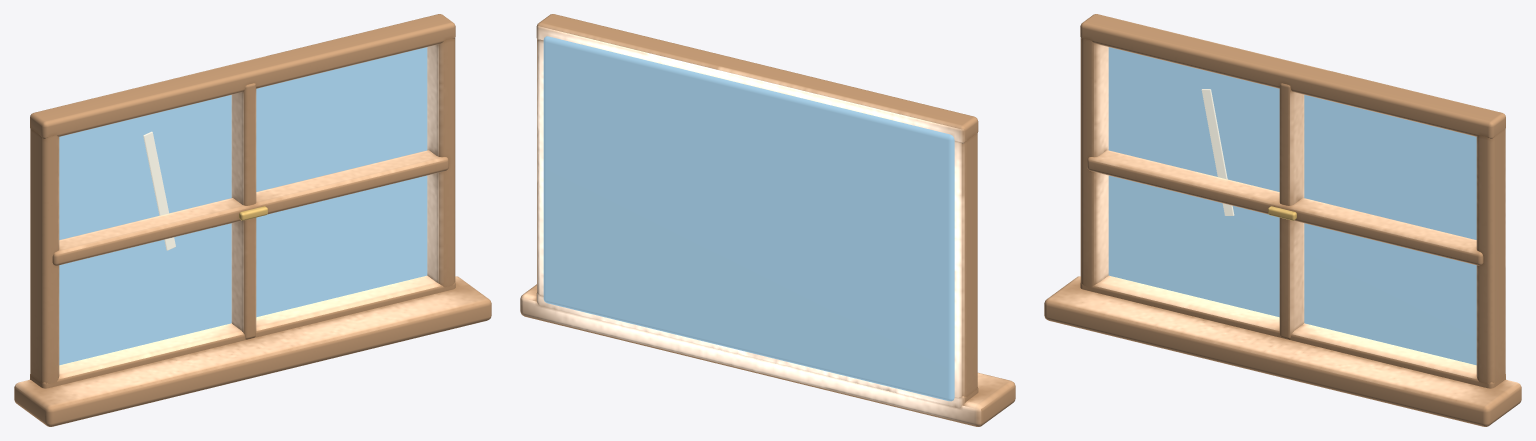
Rendered from windowOakWide.glb.
The picture shows the model from 3 angles, left to right: view 1: azimuth 30°, elevation 25°; view 2: azimuth 150°, elevation 25°; view 3: azimuth 330°, elevation 25°; orthographic projection. The views are drawn at different scales.
Visible parts, largest first — view 1: Sky blue glass, Deep window sill, Window crossbar.001, Window sash, Window crossbar, Window upright, Window upright.001, Window center mullion, Window light reflection; view 2: Sky blue glass, Window crossbar.001, Deep window sill, Window upright, Window crossbar, Window upright.001; view 3: Sky blue glass, Deep window sill, Window crossbar.001, Window sash, Window crossbar, Window upright.001, Window upright, Window center mullion, Window light reflection.
Part boxes in pixels (bbox=[...]): Sky blue glass: bbox=[59, 47, 427, 365]; Deep window sill: bbox=[14, 276, 491, 426]; Window crossbar.001: bbox=[30, 14, 455, 138]; Window sash: bbox=[52, 150, 448, 265]; Window crossbar: bbox=[30, 275, 455, 388]; Window upright: bbox=[30, 129, 59, 383]; Window upright.001: bbox=[427, 38, 455, 287]; Window center mullion: bbox=[231, 83, 256, 339]; Window light reflection: bbox=[143, 131, 175, 250]; Sky blue glass: bbox=[543, 36, 954, 401]; Window crossbar.001: bbox=[536, 14, 978, 143]; Deep window sill: bbox=[520, 284, 1015, 426]; Window upright: bbox=[954, 133, 977, 397]; Window crossbar: bbox=[536, 292, 978, 408]; Window upright.001: bbox=[537, 39, 543, 296]; Sky blue glass: bbox=[1108, 47, 1476, 365]; Deep window sill: bbox=[1044, 276, 1521, 426]; Window crossbar.001: bbox=[1080, 14, 1505, 138]; Window sash: bbox=[1087, 150, 1483, 265]; Window crossbar: bbox=[1080, 275, 1505, 388]; Window upright.001: bbox=[1476, 129, 1505, 383]; Window upright: bbox=[1080, 38, 1108, 287]; Window center mullion: bbox=[1279, 83, 1304, 339]; Window light reflection: bbox=[1201, 89, 1234, 215].
Bounding box in the file's own units: 2.14 × 1.32 × 0.3175.
